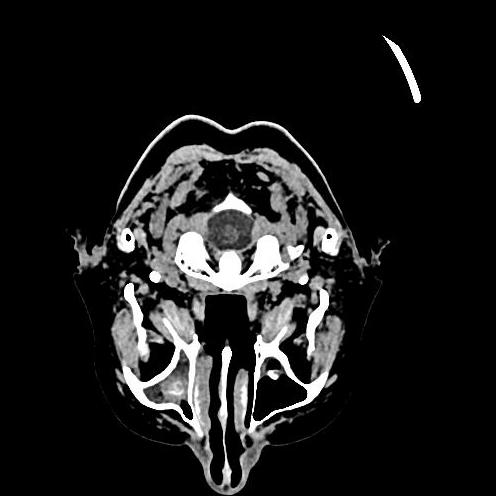Normal_Brain: (73, 104, 387, 496)
